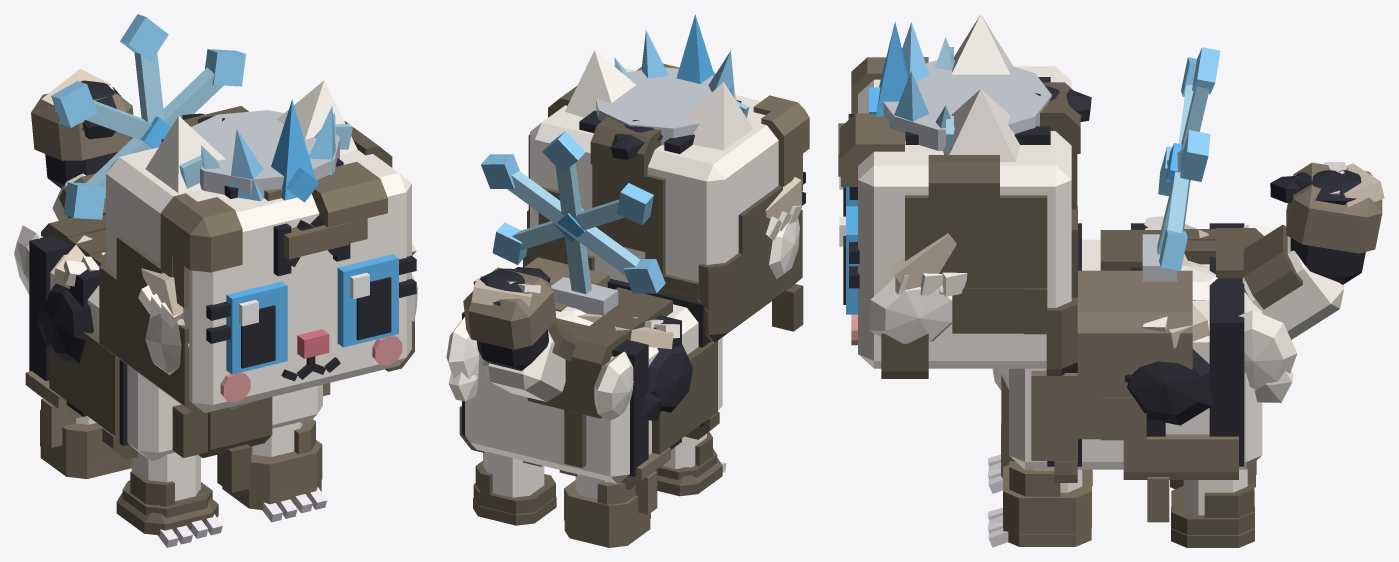
File: CleanACat_Cat_WhiteTiger_Dirty.fbx
The picture shows the model from 3 angles, left to right: view 1: azimuth 30°, elevation 25°; view 2: azimuth 150°, elevation 25°; view 3: azimuth 270°, elevation 25°; orthographic projection. The views are drawn at different scales.
Parts seen in each view (by area): view 1: CleanACat_Cat_WhiteTiger_Dirty_Head, CleanACat_Cat_WhiteTiger_Dirty_Prop2, CleanACat_Cat_WhiteTiger_Dirty_Body, CleanACat_Cat_WhiteTiger_Dirty_Prop, CleanACat_Cat_WhiteTiger_Dirty_Mud01, CleanACat_Cat_WhiteTiger_Dirty_Mud06, CleanACat_Cat_WhiteTiger_Dirty_Mud03, CleanACat_Cat_WhiteTiger_Dirty_Mud10, CleanACat_Cat_WhiteTiger_Dirty_Eye1, CleanACat_Cat_WhiteTiger_Dirty_Eye2, CleanACat_Cat_WhiteTiger_Dirty_Mud15, CleanACat_Cat_WhiteTiger_Dirty_Mud07 (+21 smaller); view 2: CleanACat_Cat_WhiteTiger_Dirty_Head, CleanACat_Cat_WhiteTiger_Dirty_Body, CleanACat_Cat_WhiteTiger_Dirty_Prop2, CleanACat_Cat_WhiteTiger_Dirty_Mud01, CleanACat_Cat_WhiteTiger_Dirty_Prop, CleanACat_Cat_WhiteTiger_Dirty_Mud04, CleanACat_Cat_WhiteTiger_Dirty_Mud09, CleanACat_Cat_WhiteTiger_Dirty_Mud18, CleanACat_Cat_WhiteTiger_Dirty_Mud19, CleanACat_Cat_WhiteTiger_Dirty_Mud10, CleanACat_Cat_WhiteTiger_Dirty_Tail, CleanACat_Cat_WhiteTiger_Dirty_Mud06 (+22 smaller); view 3: CleanACat_Cat_WhiteTiger_Dirty_Head, CleanACat_Cat_WhiteTiger_Dirty_Mud02, CleanACat_Cat_WhiteTiger_Dirty_Mud08, CleanACat_Cat_WhiteTiger_Dirty_Body, CleanACat_Cat_WhiteTiger_Dirty_Prop, CleanACat_Cat_WhiteTiger_Dirty_Prop2, CleanACat_Cat_WhiteTiger_Dirty_Mud15, CleanACat_Cat_WhiteTiger_Dirty_Mud11, CleanACat_Cat_WhiteTiger_Dirty_Tail, CleanACat_Cat_WhiteTiger_Dirty_Mud19, CleanACat_Cat_WhiteTiger_Dirty_Mud13, CleanACat_Cat_WhiteTiger_Dirty_Fluff05 (+21 smaller).
Part boxes in pixels (x1,y1,x2,y2): CleanACat_Cat_WhiteTiger_Dirty_Head: [106, 139, 416, 412]; CleanACat_Cat_WhiteTiger_Dirty_Prop2: [51, 14, 245, 219]; CleanACat_Cat_WhiteTiger_Dirty_Body: [29, 235, 322, 460]; CleanACat_Cat_WhiteTiger_Dirty_Prop: [191, 99, 339, 201]; CleanACat_Cat_WhiteTiger_Dirty_Mud01: [99, 236, 208, 457]; CleanACat_Cat_WhiteTiger_Dirty_Mud06: [160, 193, 242, 307]; CleanACat_Cat_WhiteTiger_Dirty_Mud03: [264, 161, 387, 259]; CleanACat_Cat_WhiteTiger_Dirty_Mud10: [49, 331, 137, 459]; CleanACat_Cat_WhiteTiger_Dirty_Eye1: [337, 254, 398, 347]; CleanACat_Cat_WhiteTiger_Dirty_Eye2: [226, 281, 287, 374]; CleanACat_Cat_WhiteTiger_Dirty_Mud15: [222, 419, 322, 509]; CleanACat_Cat_WhiteTiger_Dirty_Mud07: [198, 397, 272, 492]; CleanACat_Cat_WhiteTiger_Dirty_Head: [530, 68, 805, 282]; CleanACat_Cat_WhiteTiger_Dirty_Body: [462, 278, 722, 483]; CleanACat_Cat_WhiteTiger_Dirty_Prop2: [481, 131, 665, 316]; CleanACat_Cat_WhiteTiger_Dirty_Mud01: [661, 185, 803, 342]; CleanACat_Cat_WhiteTiger_Dirty_Prop: [596, 14, 736, 145]; CleanACat_Cat_WhiteTiger_Dirty_Mud04: [590, 117, 665, 275]; CleanACat_Cat_WhiteTiger_Dirty_Mud09: [527, 313, 624, 468]; CleanACat_Cat_WhiteTiger_Dirty_Mud18: [564, 480, 650, 547]; CleanACat_Cat_WhiteTiger_Dirty_Mud19: [463, 267, 556, 349]; CleanACat_Cat_WhiteTiger_Dirty_Mud10: [652, 289, 719, 454]; CleanACat_Cat_WhiteTiger_Dirty_Tail: [477, 329, 565, 401]; CleanACat_Cat_WhiteTiger_Dirty_Mud06: [753, 95, 809, 191]; CleanACat_Cat_WhiteTiger_Dirty_Head: [848, 66, 1071, 368]; CleanACat_Cat_WhiteTiger_Dirty_Mud02: [881, 155, 1047, 378]; CleanACat_Cat_WhiteTiger_Dirty_Mud08: [1077, 270, 1192, 440]; CleanACat_Cat_WhiteTiger_Dirty_Body: [1009, 223, 1262, 469]; CleanACat_Cat_WhiteTiger_Dirty_Prop: [875, 21, 1051, 150]; CleanACat_Cat_WhiteTiger_Dirty_Prop2: [1142, 47, 1220, 281]; CleanACat_Cat_WhiteTiger_Dirty_Mud15: [1003, 461, 1091, 546]; CleanACat_Cat_WhiteTiger_Dirty_Mud11: [1123, 434, 1238, 522]; CleanACat_Cat_WhiteTiger_Dirty_Tail: [1242, 236, 1365, 339]; CleanACat_Cat_WhiteTiger_Dirty_Mud19: [1286, 162, 1382, 253]; CleanACat_Cat_WhiteTiger_Dirty_Mud13: [1031, 370, 1077, 482]; CleanACat_Cat_WhiteTiger_Dirty_Fluff05: [1124, 349, 1211, 425].
Bounding box in the file's own units: 1.13 × 2.02 × 2.05.
Materials: 1 (1 with a texture image).
